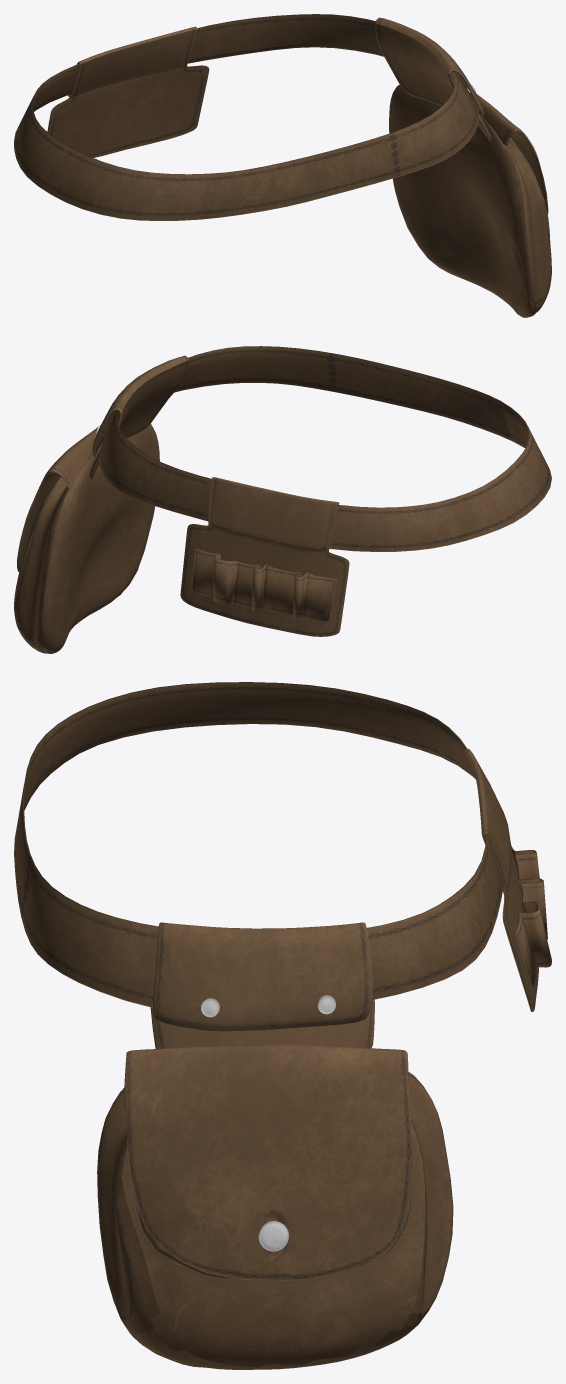
Rendered from toolbelt.glb.
3 renders of one model, top to bottom at view 1: azimuth 30°, elevation 25°; view 2: azimuth 150°, elevation 25°; view 3: azimuth 270°, elevation 25°, orthographic. The views are drawn at different scales.
Parts seen in each view (by area): view 1: Belt_LP, Tasche_LP, WerkzeugTasche_LP, Taschenhalterung_LP, TascheKlappe_LP; view 2: Belt_LP, Tasche_LP, WerkzeugTasche_LP, Riemen_LP, Taschenhalterung_LP, TascheKlappe_LP; view 3: TascheKlappe_LP, Belt_LP, Tasche_LP, Taschenhalterung_LP, WerkzeugTasche_LP, Riemen_LP.
Boxes of the visible parts, x1,y1,x2,y2 form: Belt_LP: [14, 14, 478, 220]; Tasche_LP: [389, 84, 551, 317]; WerkzeugTasche_LP: [47, 26, 209, 157]; Taschenhalterung_LP: [375, 17, 492, 141]; TascheKlappe_LP: [476, 94, 548, 214]; Belt_LP: [98, 346, 551, 551]; Tasche_LP: [14, 424, 159, 653]; WerkzeugTasche_LP: [180, 477, 349, 636]; Riemen_LP: [191, 548, 337, 621]; Taschenhalterung_LP: [89, 355, 188, 480]; TascheKlappe_LP: [17, 427, 97, 571]; TascheKlappe_LP: [124, 1044, 411, 1280]; Belt_LP: [14, 682, 504, 1007]; Tasche_LP: [97, 1071, 453, 1369]; Taschenhalterung_LP: [150, 922, 374, 1048]; WerkzeugTasche_LP: [464, 748, 538, 1011]; Riemen_LP: [511, 845, 551, 988].
Size of the model in its own units: 0.198 by 0.1058 by 0.1326.
1 material, 1 textured.
